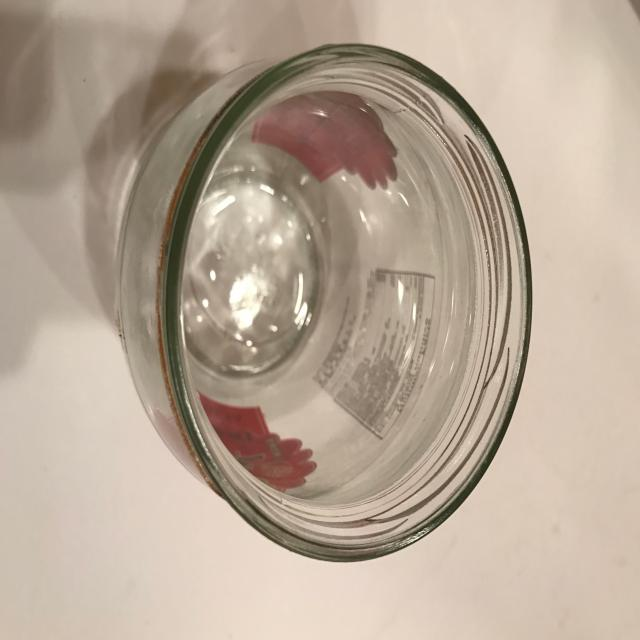glass: (112, 41, 534, 563)
